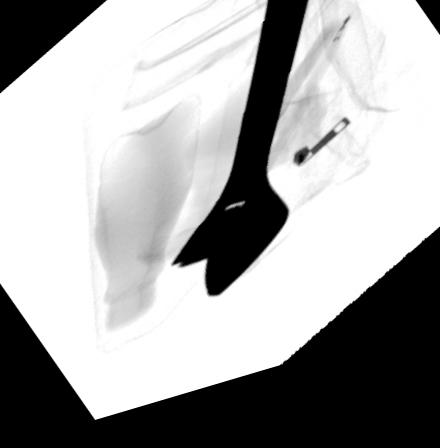Wrench: (166, 0, 313, 312)
